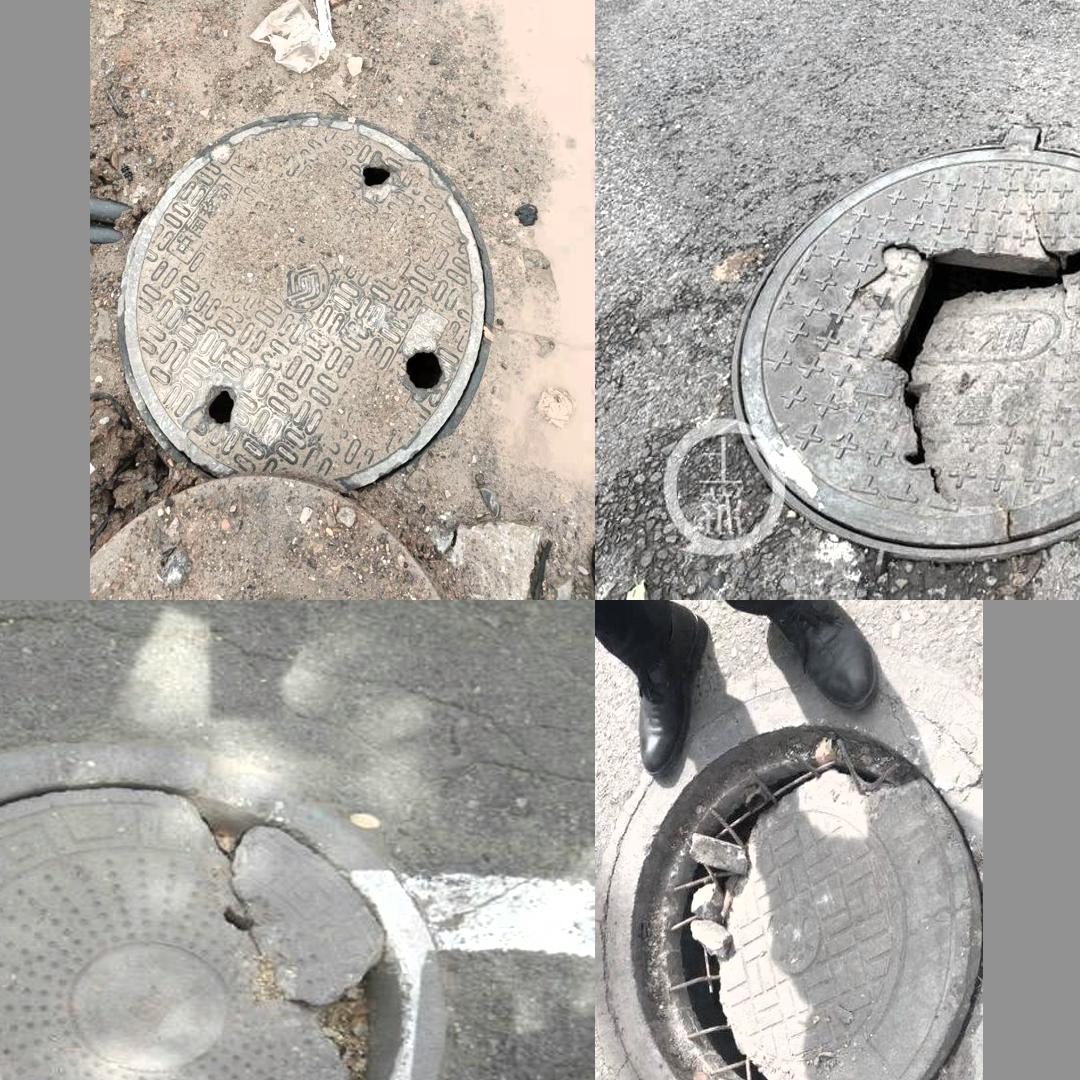broke: (0, 726, 464, 1080), (728, 127, 1080, 574), (115, 112, 492, 495), (606, 694, 977, 1080)
